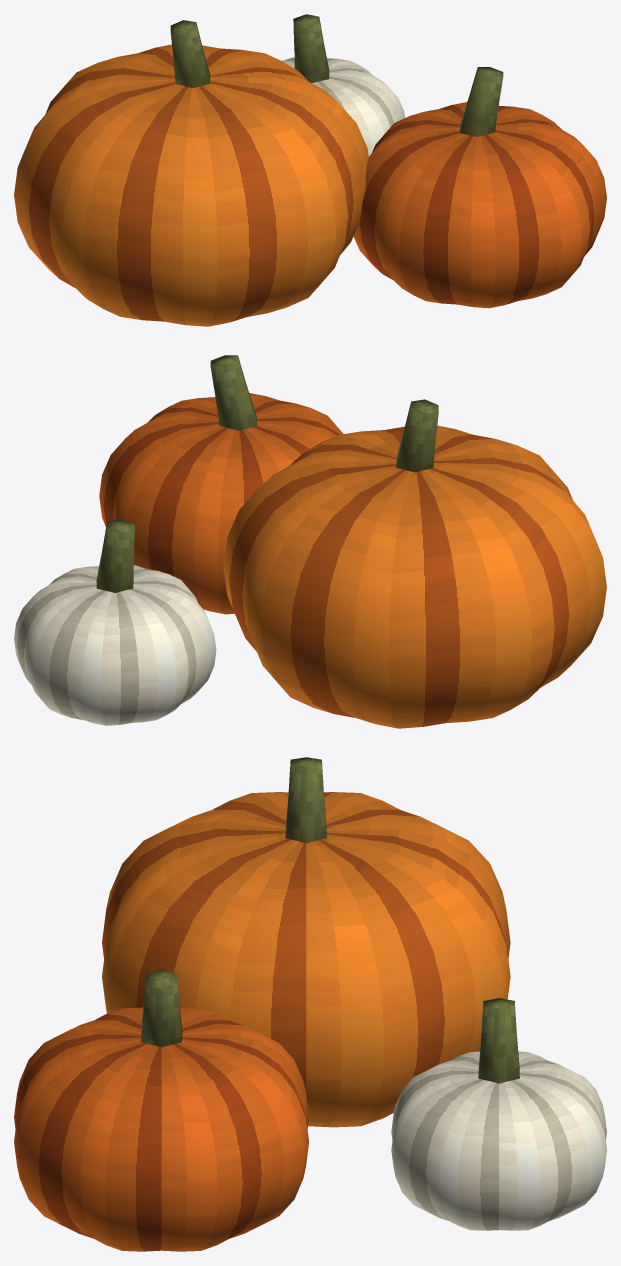
Rendered from pumpkins.obj.
3 views of the same model, one above another, from view 1: azimuth 30°, elevation 25°; view 2: azimuth 150°, elevation 25°; view 3: azimuth 270°, elevation 25° (orthographic). The views are drawn at different scales.
Parts seen in each view (by area): view 1: pumpkins; view 2: pumpkins; view 3: pumpkins.
Part boxes in pixels (x1,y1,x2,y2): pumpkins: [14, 14, 606, 326]; pumpkins: [14, 355, 606, 728]; pumpkins: [14, 757, 606, 1251].
Bounding box in the file's own units: 0.6898 × 0.3756 × 0.6148.
